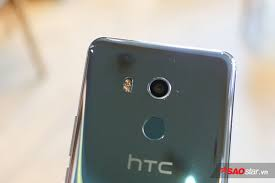htc: (60, 30, 236, 183)
